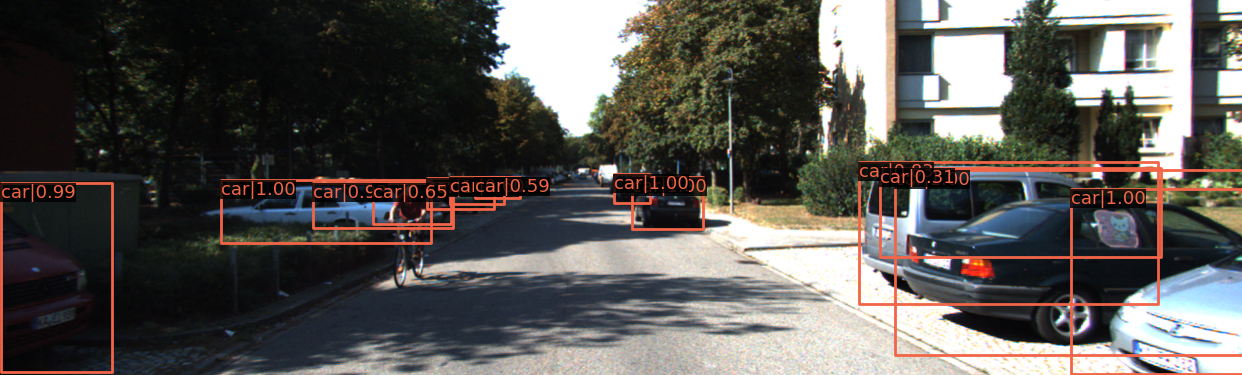car: (899, 189, 1242, 349), (859, 162, 1201, 303), (1099, 187, 1242, 375), (1, 131, 106, 375), (203, 183, 414, 250), (276, 184, 444, 241), (345, 180, 451, 226), (635, 180, 702, 229), (415, 178, 500, 211), (619, 176, 653, 205)
